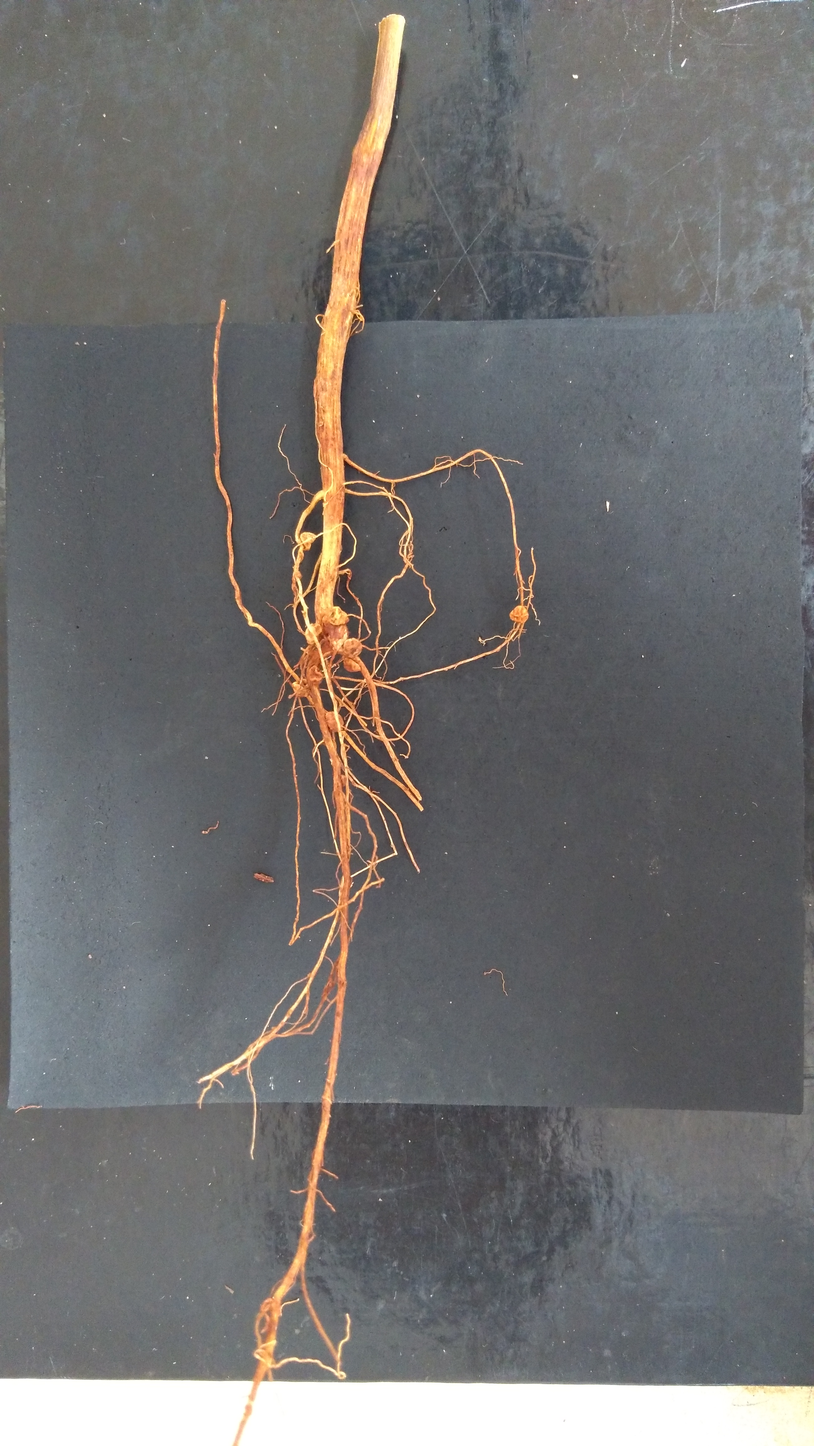nodule: (327, 624, 348, 651), (325, 711, 344, 733), (329, 606, 349, 626), (305, 623, 322, 644), (509, 605, 528, 623), (343, 638, 362, 656), (292, 679, 310, 697), (300, 532, 316, 551), (308, 665, 323, 685), (343, 656, 361, 672), (261, 1298, 273, 1311), (293, 571, 301, 582), (341, 775, 347, 787), (299, 552, 304, 562)
